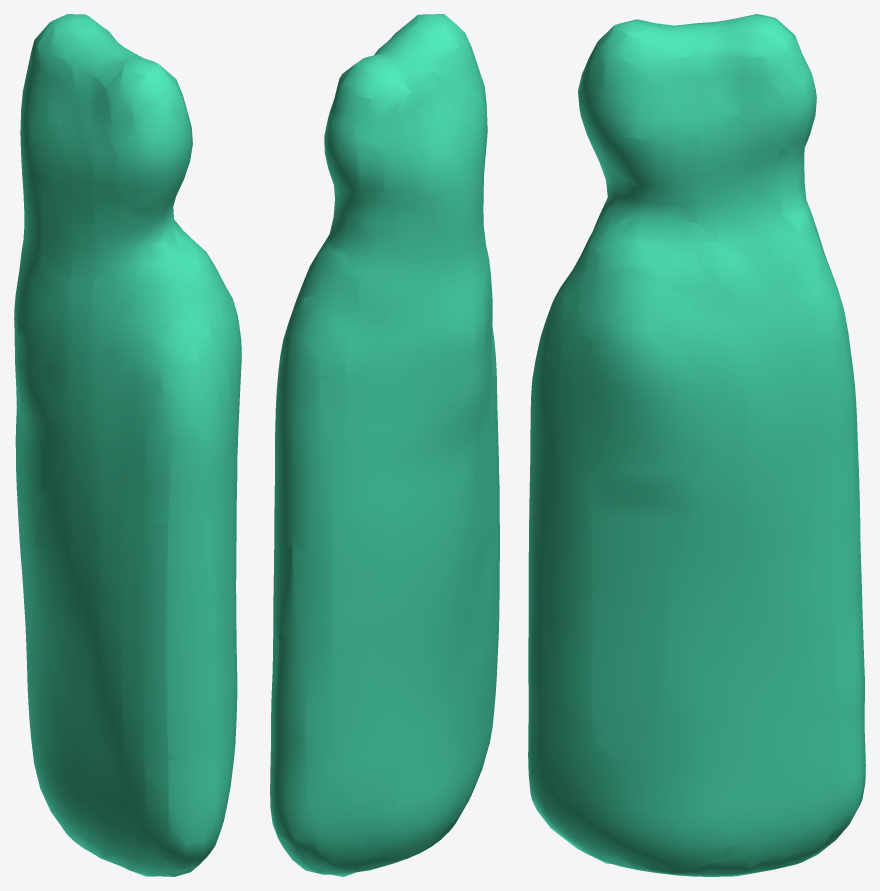
3 views of the same model, side by side, from view 1: azimuth 30°, elevation 25°; view 2: azimuth 150°, elevation 25°; view 3: azimuth 270°, elevation 25° (orthographic). The views are drawn at different scales.
Visible parts, largest first — view 1: Liquid_Domain; view 2: Liquid_Domain; view 3: Liquid_Domain.
Boxes of the visible parts, box(x1,y1,x2,y2) form: Liquid_Domain: box(14, 14, 241, 876); Liquid_Domain: box(270, 14, 499, 876); Liquid_Domain: box(528, 14, 865, 876).
Bounding box in the file's own units: 1.57 × 6.66 × 2.45.
